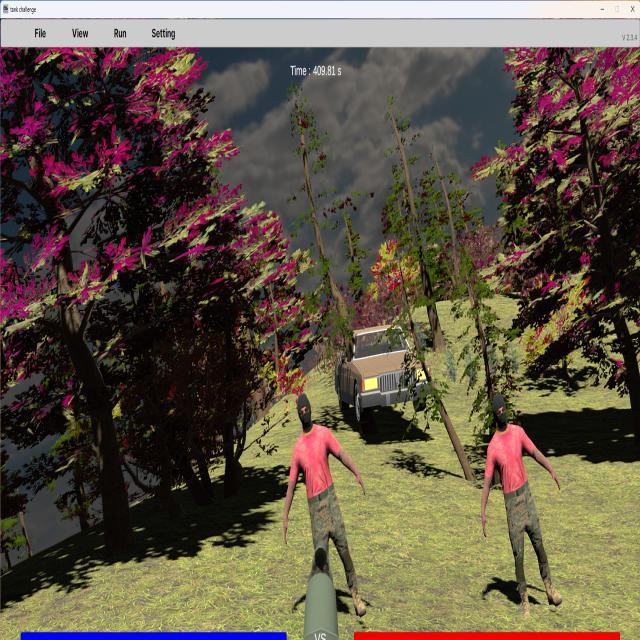Human: (282, 394, 367, 619), (480, 393, 561, 617)
car: (334, 325, 432, 428)
